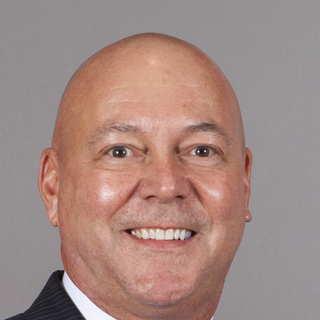eye: (174, 138, 231, 169), (90, 138, 148, 166)
